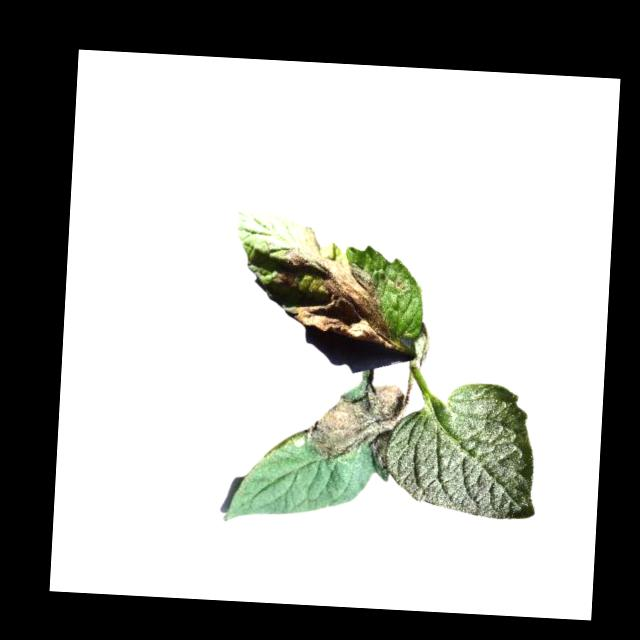Late_blight: (266, 224, 410, 351), (306, 379, 407, 465)
healthy: (383, 377, 541, 522)
